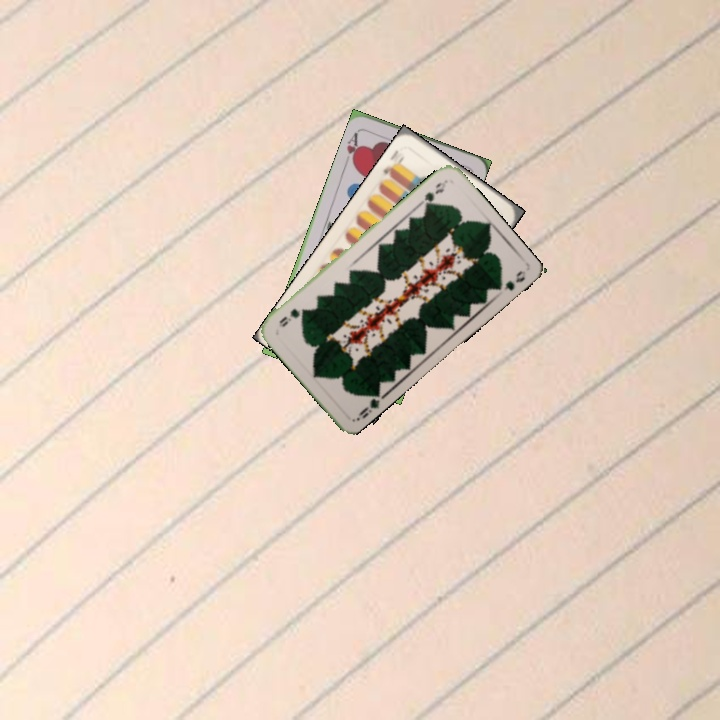E10: (379, 152, 407, 180)
G9: (416, 176, 449, 210), (352, 389, 383, 423)
HA: (341, 127, 363, 168)
